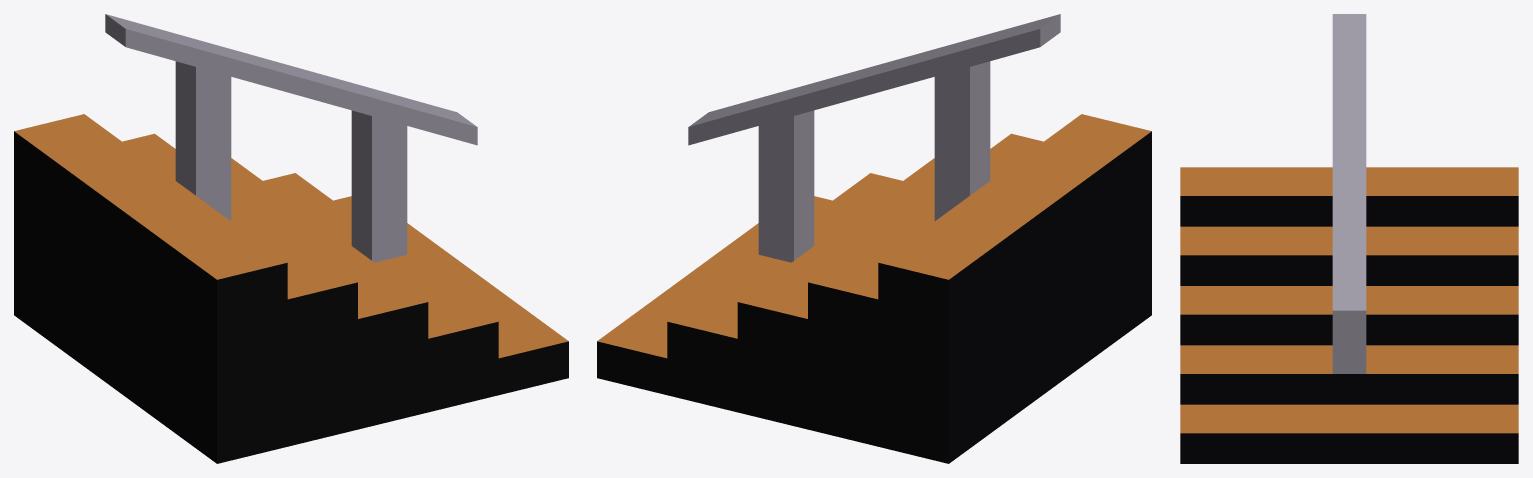
Rendered from Rail_Stairs_Tall.obj.
The picture shows the model from 3 angles, left to right: view 1: azimuth 30°, elevation 25°; view 2: azimuth 150°, elevation 25°; view 3: azimuth 270°, elevation 25°; orthographic projection. The views are drawn at different scales.
Parts seen in each view (by area): view 1: Rail_Stairs_Tall; view 2: Rail_Stairs_Tall; view 3: Rail_Stairs_Tall.
Boxes of the visible parts, bbox=[...] form: Rail_Stairs_Tall: bbox=[14, 14, 568, 463]; Rail_Stairs_Tall: bbox=[597, 14, 1151, 463]; Rail_Stairs_Tall: bbox=[1180, 14, 1518, 463].
Size of the model in its own units: 10 by 10 by 10.
